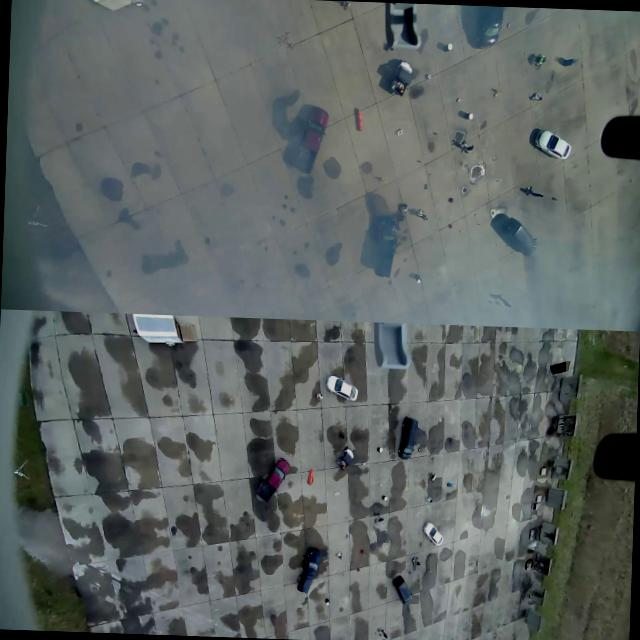car: (284, 96, 332, 180), (498, 208, 544, 260), (370, 214, 400, 280), (254, 454, 292, 502), (395, 414, 428, 460), (530, 128, 572, 158), (297, 546, 323, 590), (324, 373, 359, 401), (389, 572, 414, 602), (420, 520, 443, 545)
